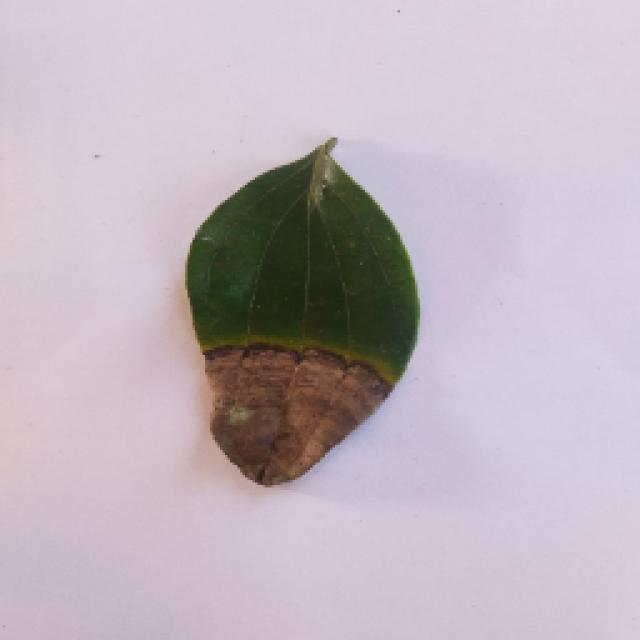footrot: (168, 122, 428, 492)
